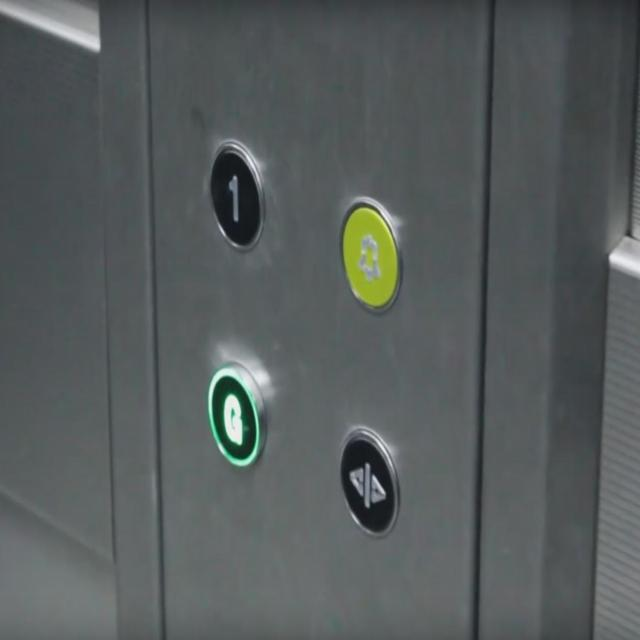1: (204, 133, 270, 255)
G: (205, 359, 270, 473)
alarm: (336, 189, 404, 316)
open: (336, 422, 402, 540)
